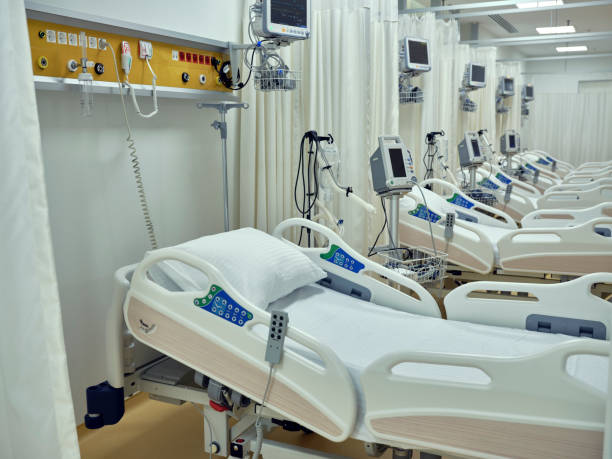bedrail: (125, 251, 357, 444), (361, 338, 612, 459), (275, 217, 441, 320), (445, 272, 612, 336), (395, 197, 493, 274), (497, 216, 612, 276), (415, 178, 520, 229), (456, 167, 538, 214), (520, 201, 612, 234), (470, 189, 535, 223), (537, 184, 612, 206)
bedside_monitor: (366, 136, 417, 256), (249, 1, 312, 88), (456, 128, 495, 201), (399, 33, 431, 102), (494, 124, 521, 176), (458, 63, 486, 112), (494, 77, 515, 112), (519, 83, 536, 119)
curtain: (1, 1, 84, 458), (261, 10, 352, 214), (363, 10, 435, 171), (532, 95, 612, 168), (440, 24, 455, 164), (478, 51, 497, 129)
hospital_bed: (105, 219, 612, 459), (398, 177, 612, 285)
iv_pole: (193, 100, 250, 228)
